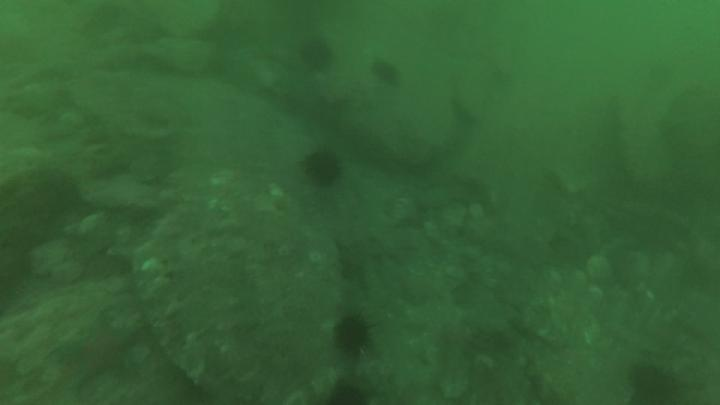echinus: (305, 149, 340, 189), (334, 316, 367, 352), (302, 40, 330, 69), (370, 62, 399, 85)
